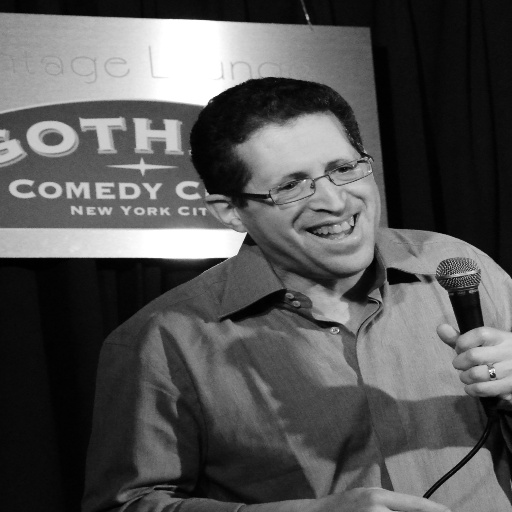hand: (427, 313, 508, 389), (314, 484, 454, 511)
